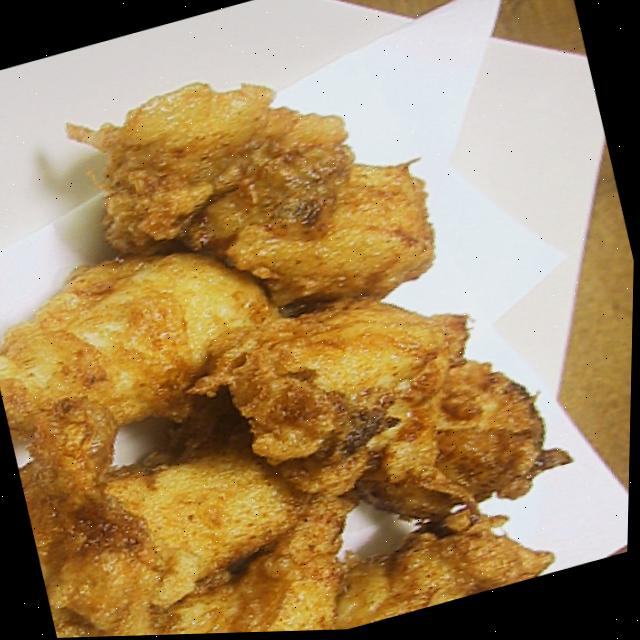鸡肉料理 含炸鸡: (0, 41, 571, 640)
